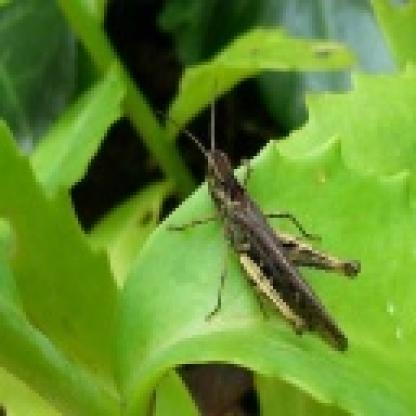grasshopper: (175, 120, 372, 351)
